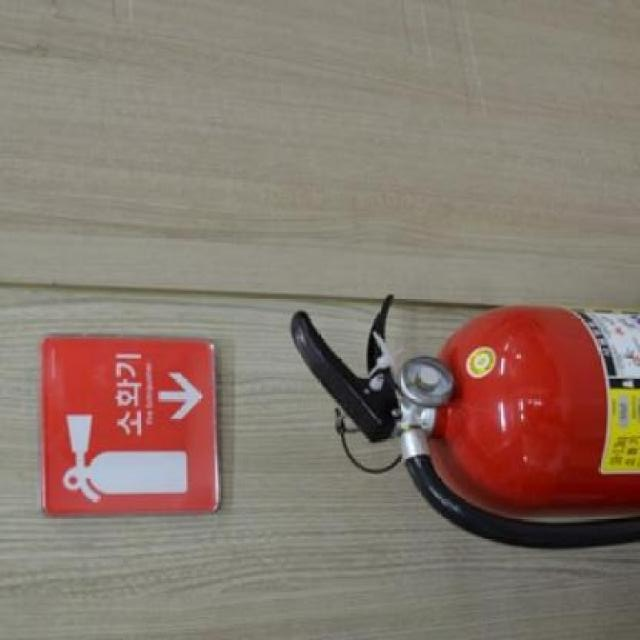fire extinguisher: (287, 294, 640, 551)
